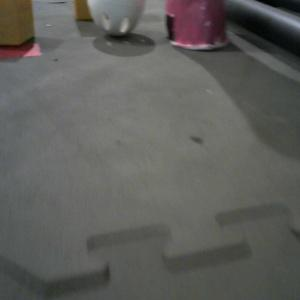right: (165, 1, 229, 50)
